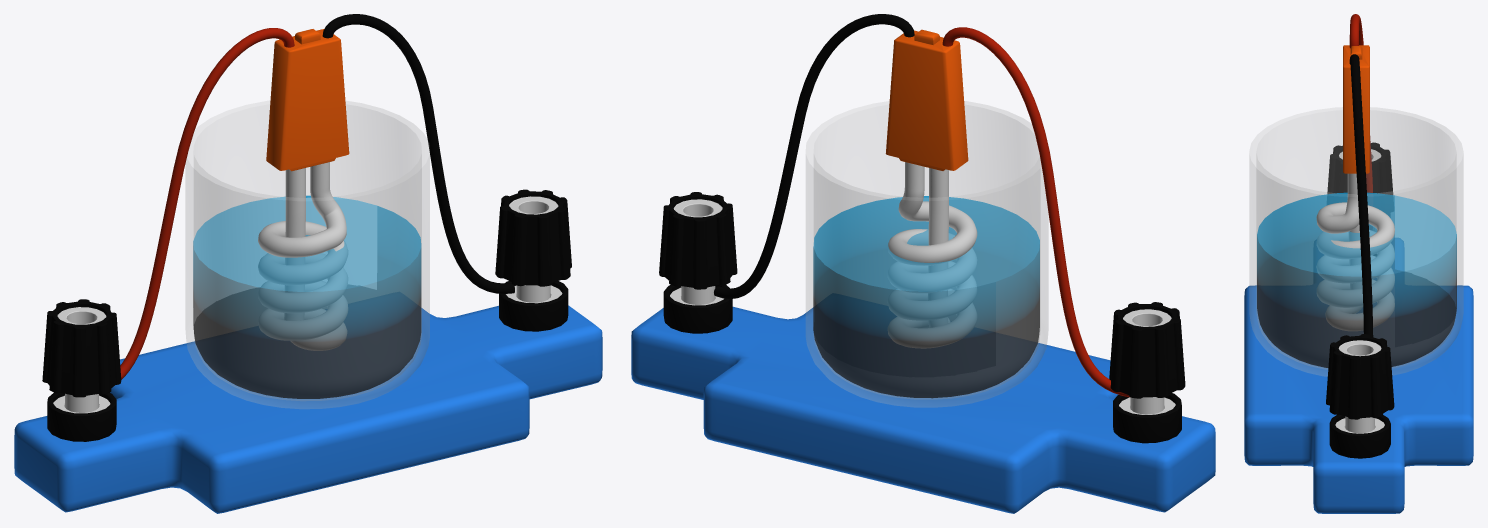
Rendered from Heater.fbx.
The picture shows the model from 3 angles, left to right: view 1: azimuth 30°, elevation 25°; view 2: azimuth 150°, elevation 25°; view 3: azimuth 270°, elevation 25°; orthographic projection. The views are drawn at different scales.
Visible parts, largest first — view 1: Cylinder.058, Resistor.008, Cylinder.059, Cylinder.057, Spiral.002, Cube.001, Cylinder.056, cable, cable.001; view 2: Cylinder.058, Resistor.008, Cylinder.059, Cylinder.057, Spiral.002, Cube.001, Cylinder.056, cable, cable.001; view 3: Cylinder.058, Resistor.008, Cylinder.059, Spiral.002, Cylinder.057, cable.001, Cube.001, Cylinder.056, cable.
Part boxes in pixels (x1,y1,x2,y2): Cylinder.058: (185, 100, 429, 408); Resistor.008: (14, 305, 602, 513); Cylinder.059: (193, 195, 421, 398); Cylinder.057: (42, 189, 571, 412); Spiral.002: (258, 162, 347, 350); Cube.001: (266, 29, 349, 171); Cylinder.056: (47, 281, 568, 441); cable: (120, 28, 294, 379); cable.001: (322, 14, 514, 293); Cylinder.058: (806, 101, 1048, 407); Resistor.008: (631, 306, 1215, 513); Cylinder.059: (813, 196, 1039, 398); Cylinder.057: (659, 192, 1185, 414); Spiral.002: (887, 162, 977, 348); Cube.001: (885, 29, 968, 170); Cylinder.056: (663, 285, 1181, 443); cable: (942, 27, 1129, 397); cable.001: (714, 14, 914, 298); Cylinder.058: (1249, 107, 1463, 376); Resistor.008: (1244, 238, 1473, 513); Cylinder.059: (1257, 192, 1456, 367); Spiral.002: (1316, 173, 1394, 330); Cylinder.057: (1326, 142, 1394, 433); cable.001: (1349, 54, 1373, 337); Cube.001: (1343, 45, 1369, 173); Cylinder.056: (1329, 414, 1390, 458); cable: (1349, 14, 1372, 192).
Bounding box in the file's own units: 236 × 172 × 98.66.
